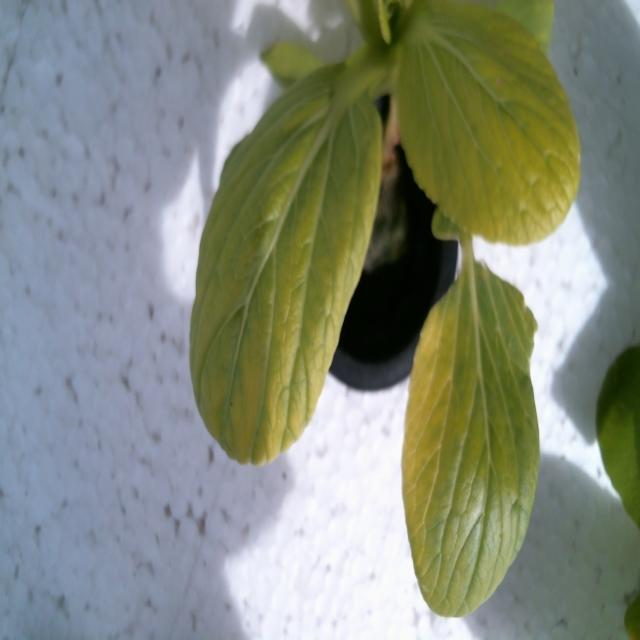pakcoy_tidak_sehat: (183, 0, 594, 637)
